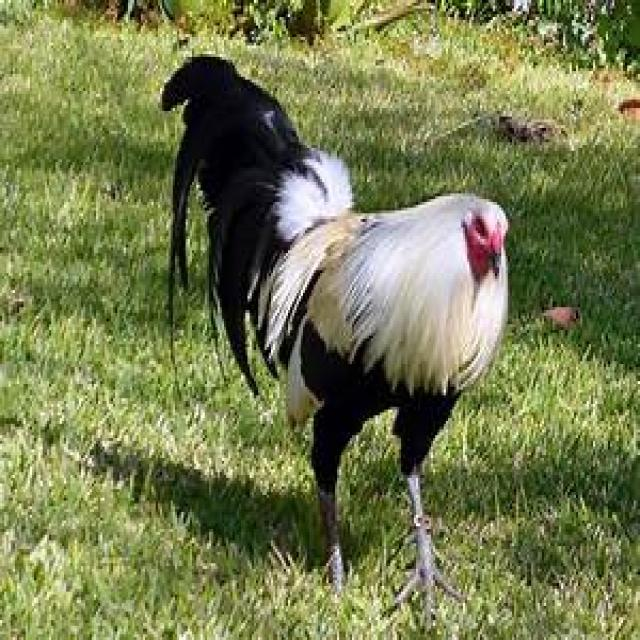hen: (166, 63, 510, 589)
